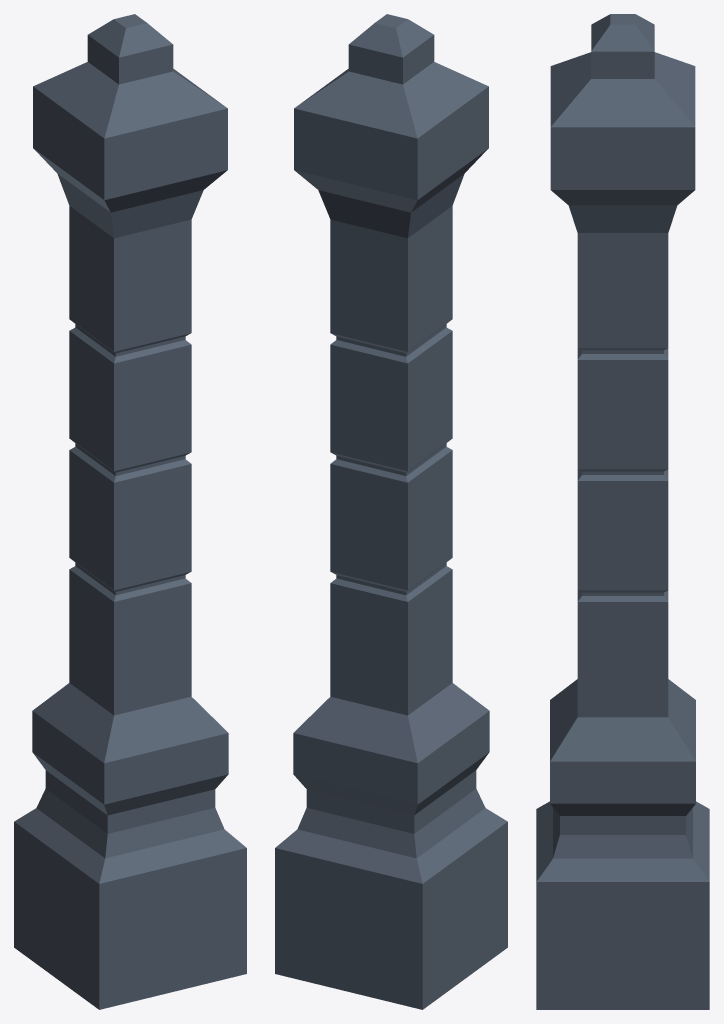
Rendered from Pillar01.fbx.
3 views of the same model, side by side, from view 1: azimuth 30°, elevation 25°; view 2: azimuth 150°, elevation 25°; view 3: azimuth 270°, elevation 25° (orthographic).
Visible parts, largest first — view 1: Cube.002; view 2: Cube.002; view 3: Cube.002.
Part boxes in pixels (x1,y1,x2,y2): Cube.002: (14, 14, 246, 1009); Cube.002: (275, 14, 507, 1009); Cube.002: (536, 14, 709, 1009).
Size of the model in its own units: 151 by 917 by 151.
Materials: 1 (1 with a texture image).
